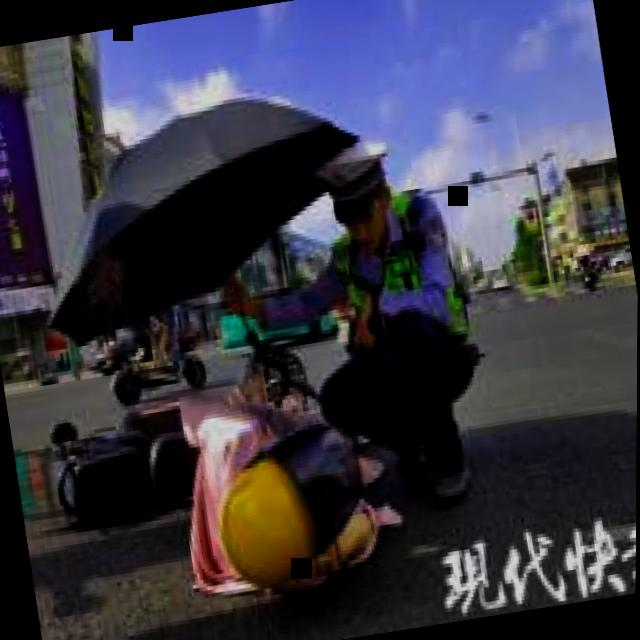Fall-Detected: (133, 359, 412, 623)
